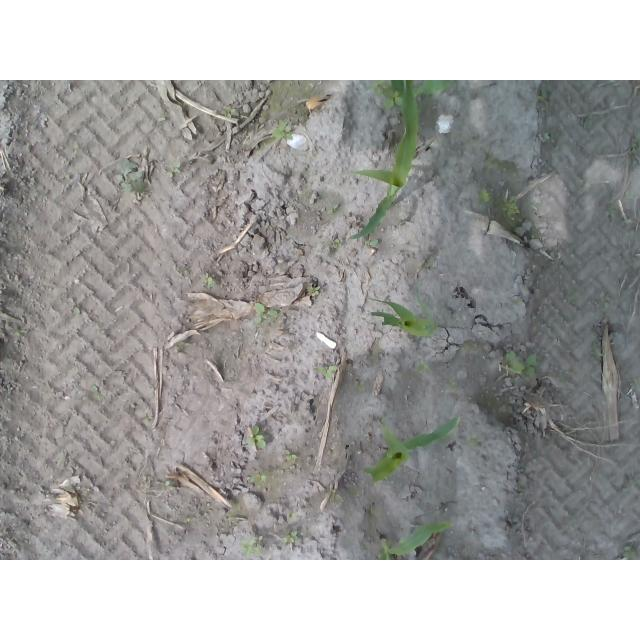Maize: (362, 89, 425, 246)
